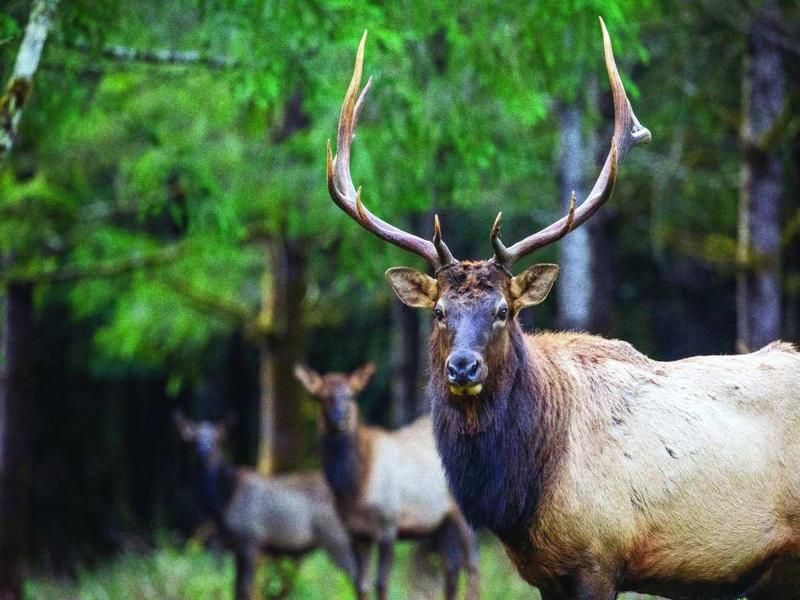elk: (337, 170, 800, 600)
